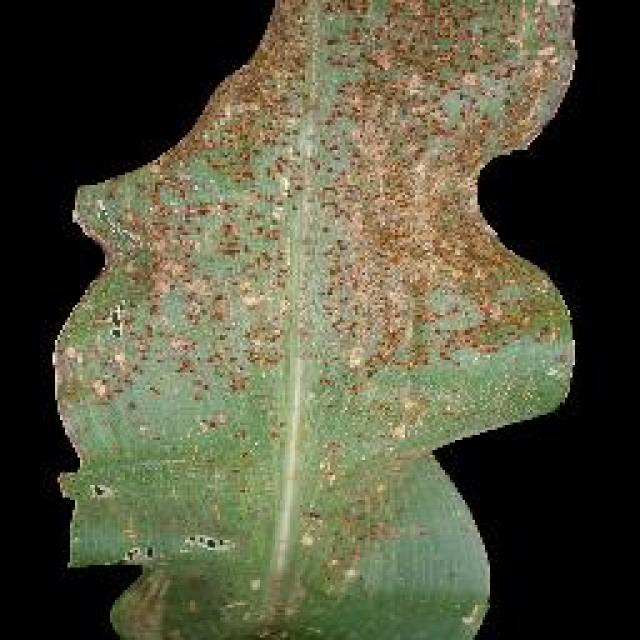Corn___Common_rust: (77, 9, 520, 370)
